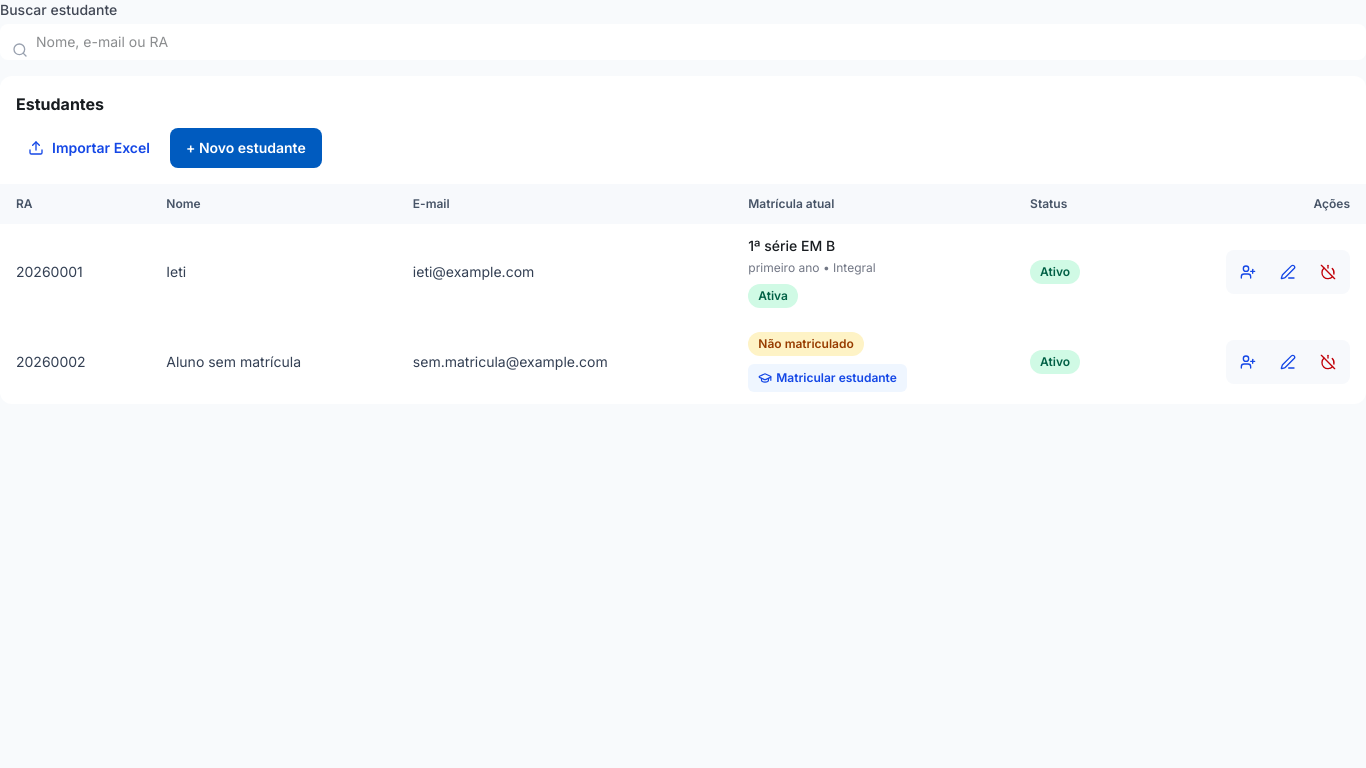
StudentsTab - vínculo de responsável › permite associar um responsável a um aluno já cadastrado
Click the button named "Vincular responsável" in the row of "20260001". click: (1248, 272)
box: [1230,254,1266,290]
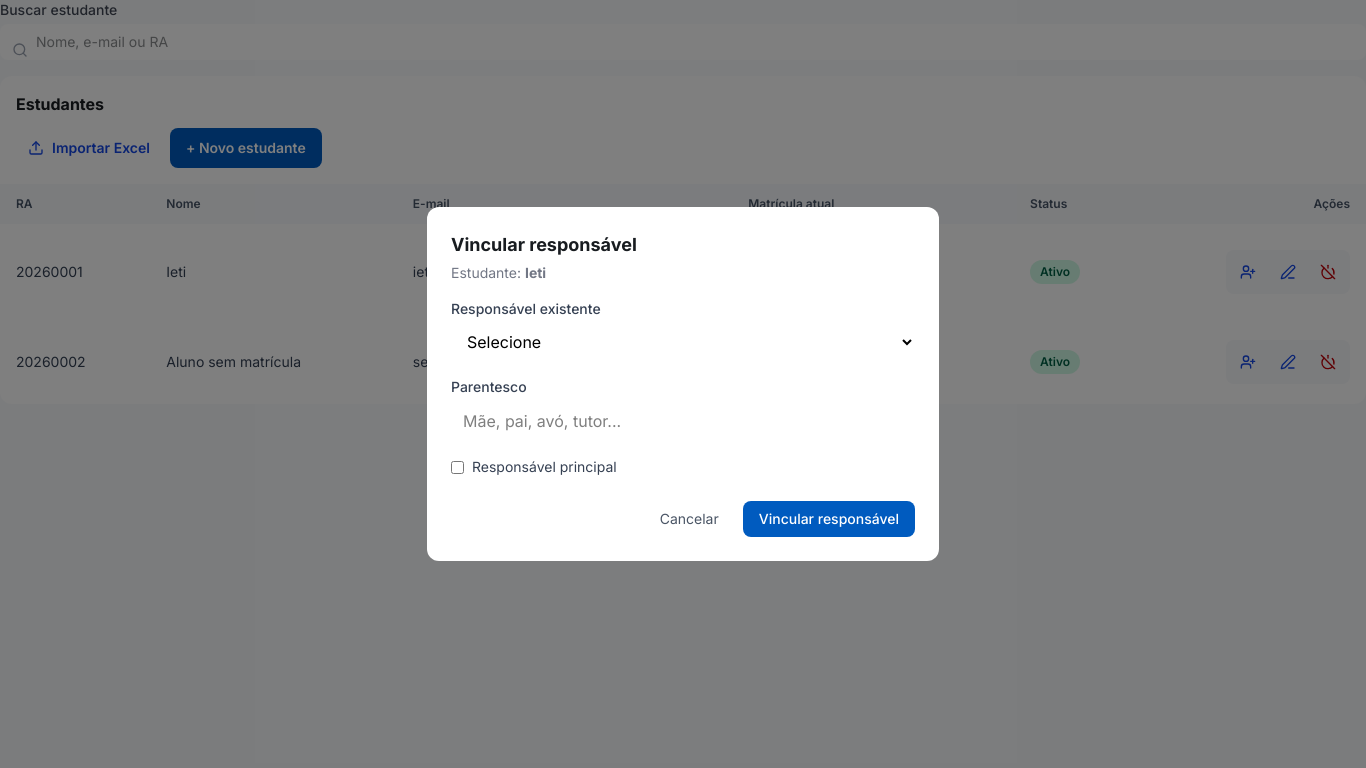
Select "Maria Silva (maria@example.com)" in the dropdown labelled "Responsável existente". click: (683, 342)
box: [451,323,915,361]
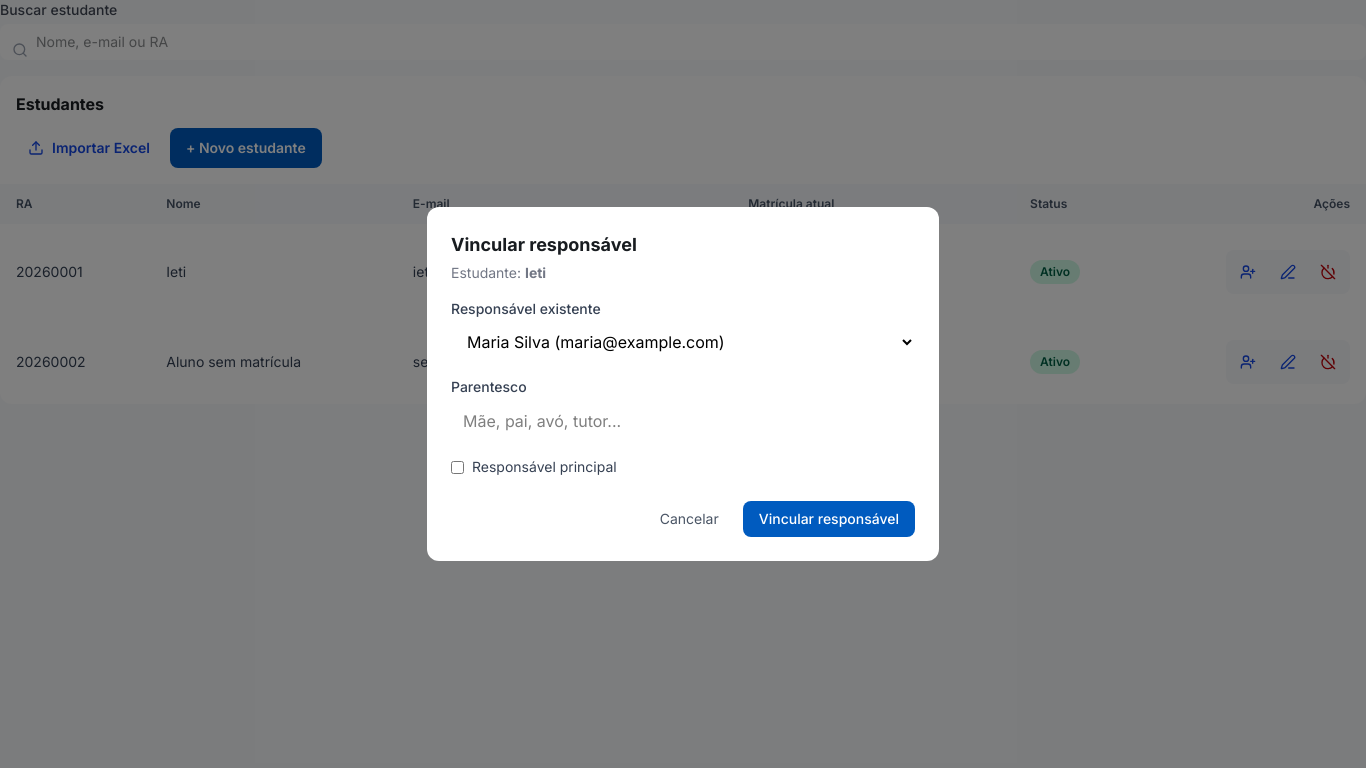
Type "Mãe" into the field labelled "Parentesco". click: (683, 421)
box: [451,401,915,441]
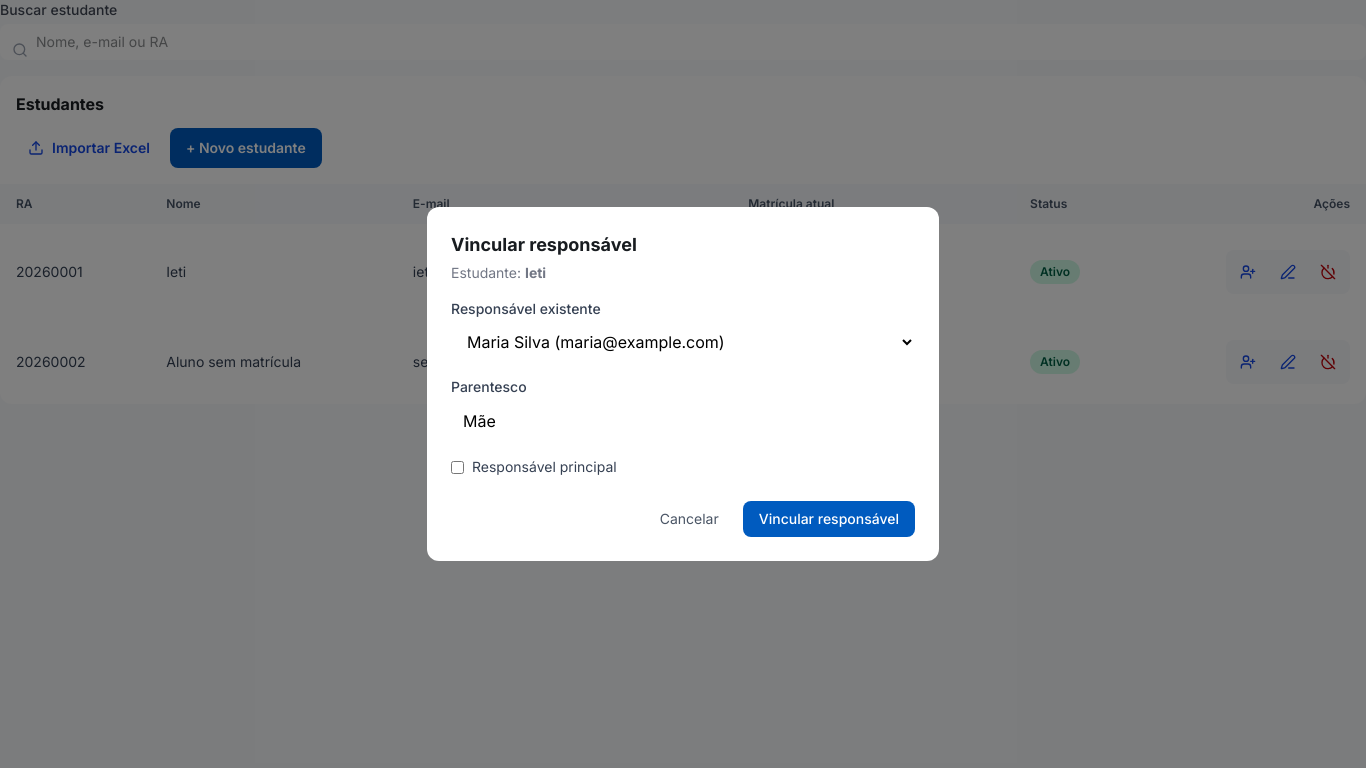
Click the submit button. click: (829, 519)
box: [743,501,915,537]
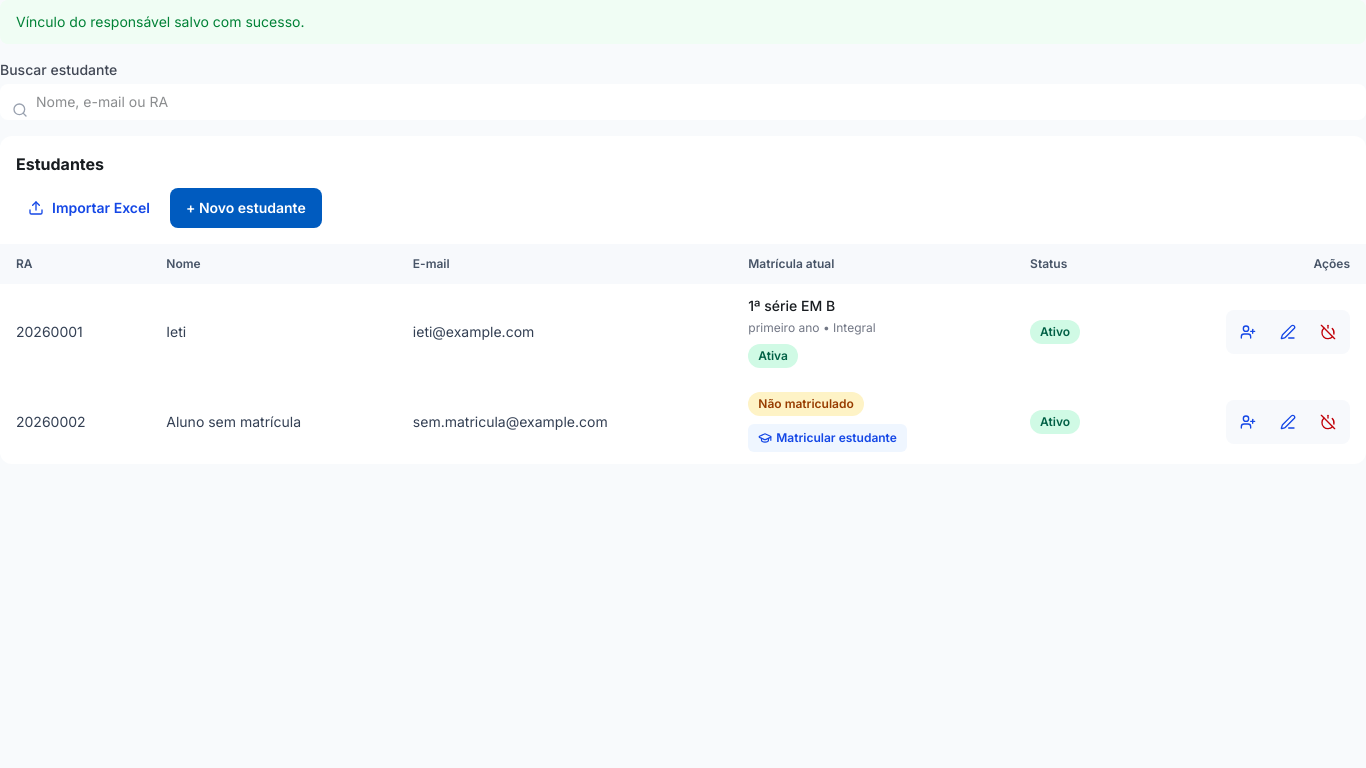
Now the text "Vínculo do responsável salvo com sucesso." is shown, box [0,0,1365,44]
